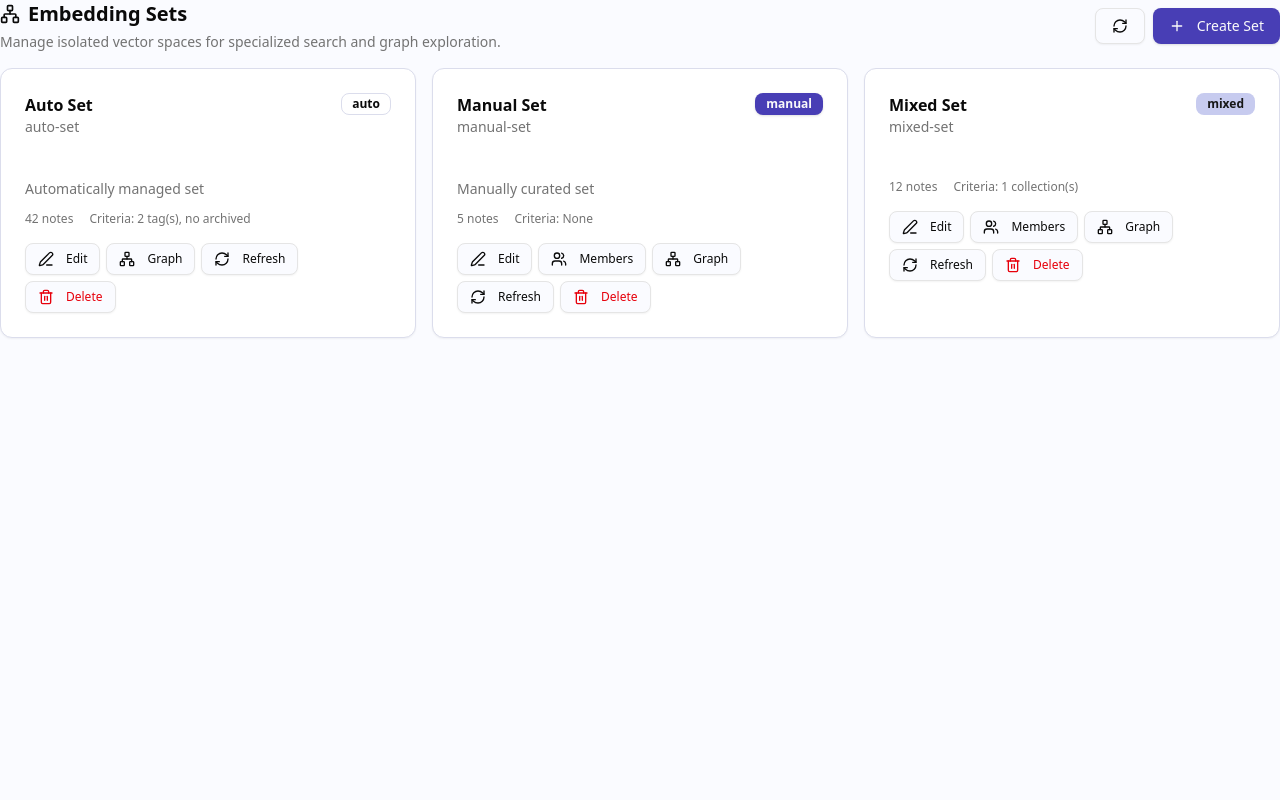
it: EmbeddingSetManager › delete dialog › opens the delete confirmation dialog when Delete is clicked
Expected: the text "Auto Set" is shown, top-left (25, 94), bottom-right (93, 116)
Click the button "Delete" below "42": (70, 297) top-left (25, 281), bottom-right (116, 313)
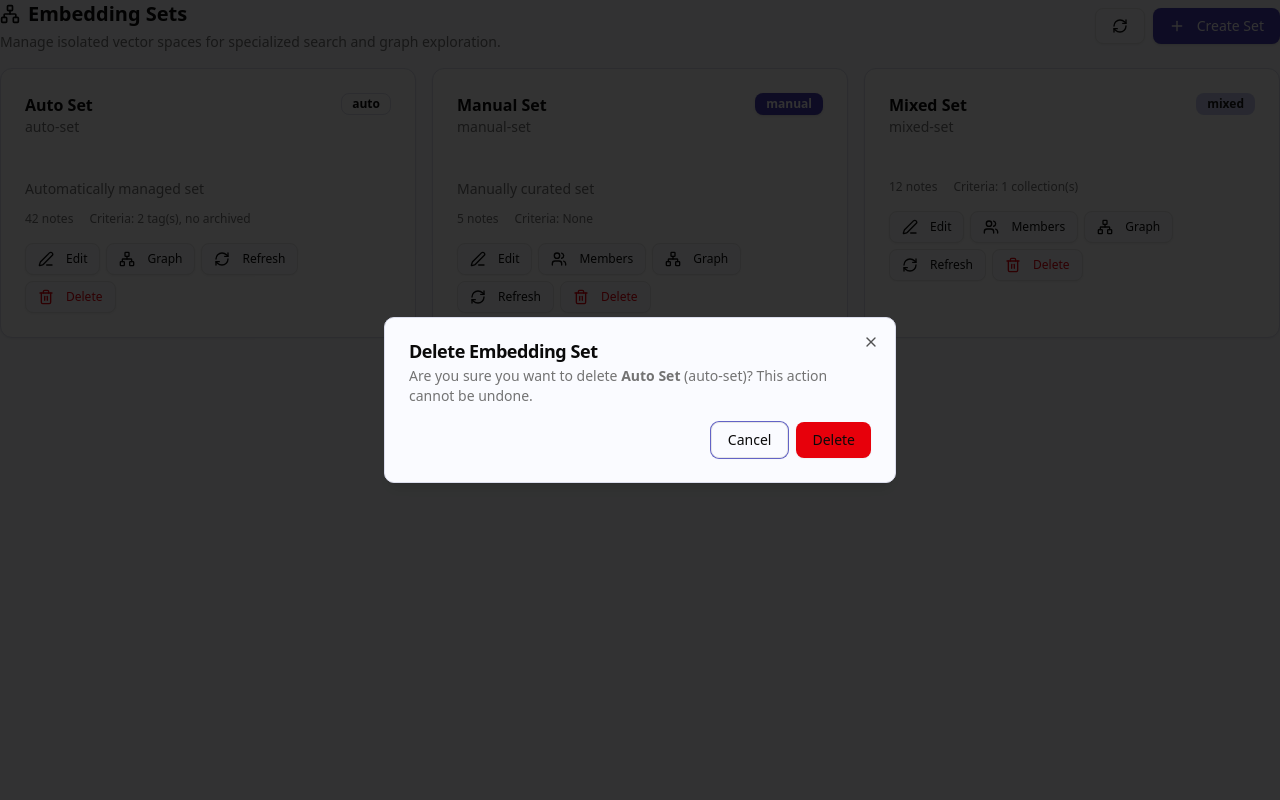
Result: the heading "Delete Embedding Set" is shown at top-left (409, 339), bottom-right (598, 363)
